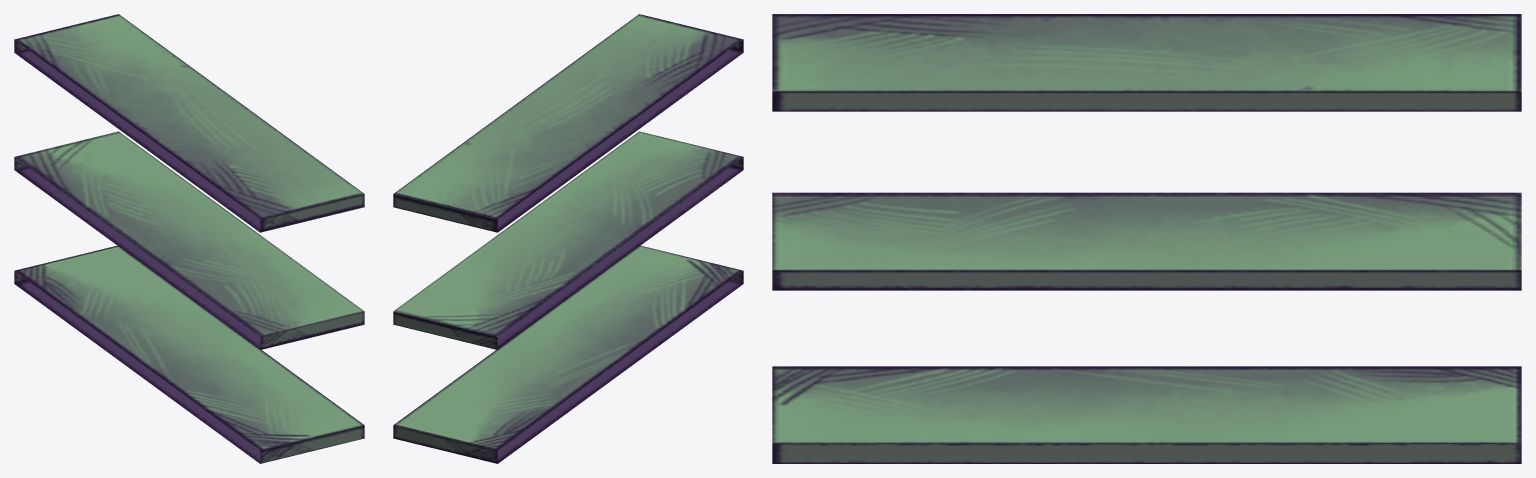
Rendered from startship_shelves.glb.
3 views of the same model, side by side, from view 1: azimuth 30°, elevation 25°; view 2: azimuth 150°, elevation 25°; view 3: azimuth 270°, elevation 25° (orthographic). The views are drawn at different scales.
Visible parts, largest first — view 1: Shelves.001; view 2: Shelves.001; view 3: Shelves.001.
Boxes of the visible parts, x1,y1,x2,y2 form: Shelves.001: (14,14,364,463); Shelves.001: (393,14,743,463); Shelves.001: (772,14,1521,463).
Size of the model in its own units: 0.3061 by 0.6838 by 1.25.
1 material, 1 textured.
